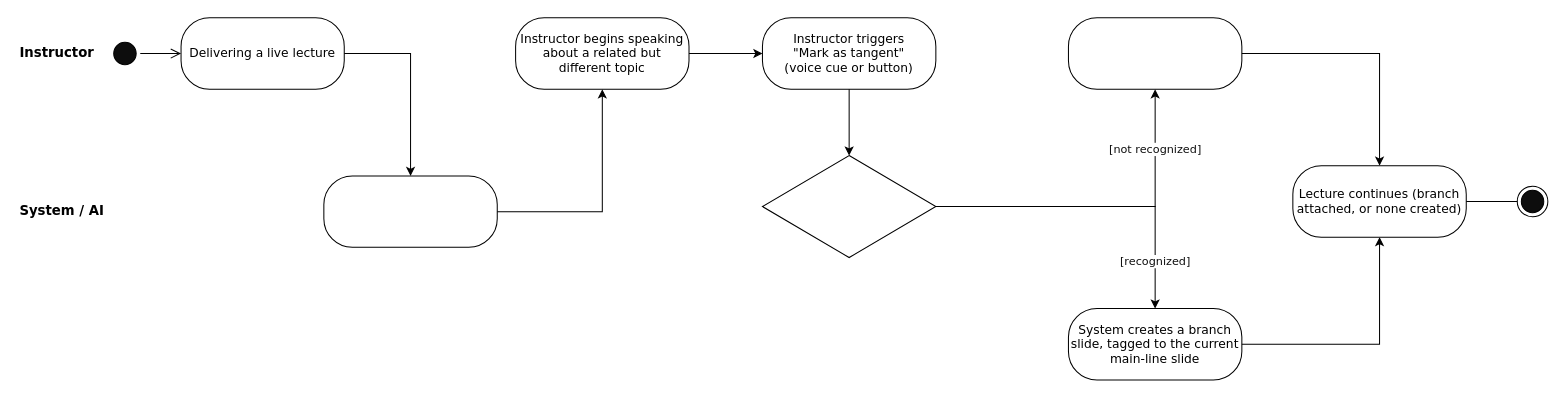
Image size: 1566x398. Some labels were removed from this diagram. Here are the shapes that lost their labels. From the top down, the centre of each, then its label:
At [1154,53]: "Content is added as a normal slide update".
At [410,211]: "AI creates/updates the main-line slide as speaking".
At [848,206]: "Command captured?".
